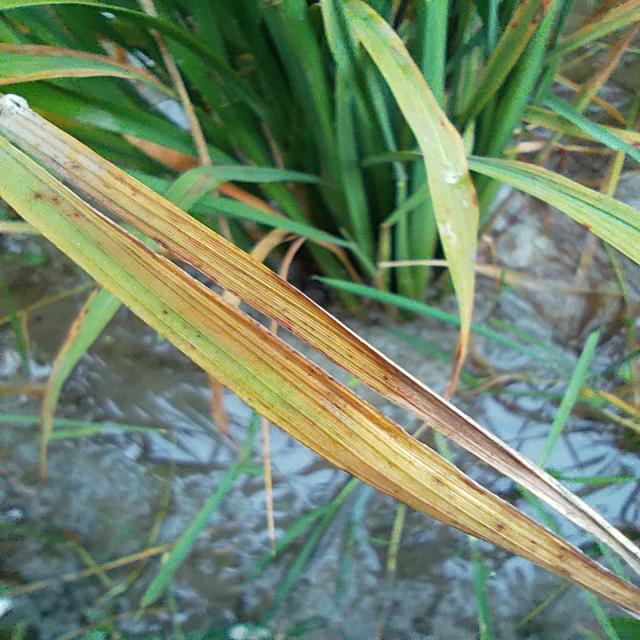Bacterial_Leaf_Blight: (0, 98, 637, 572), (102, 218, 637, 591)
